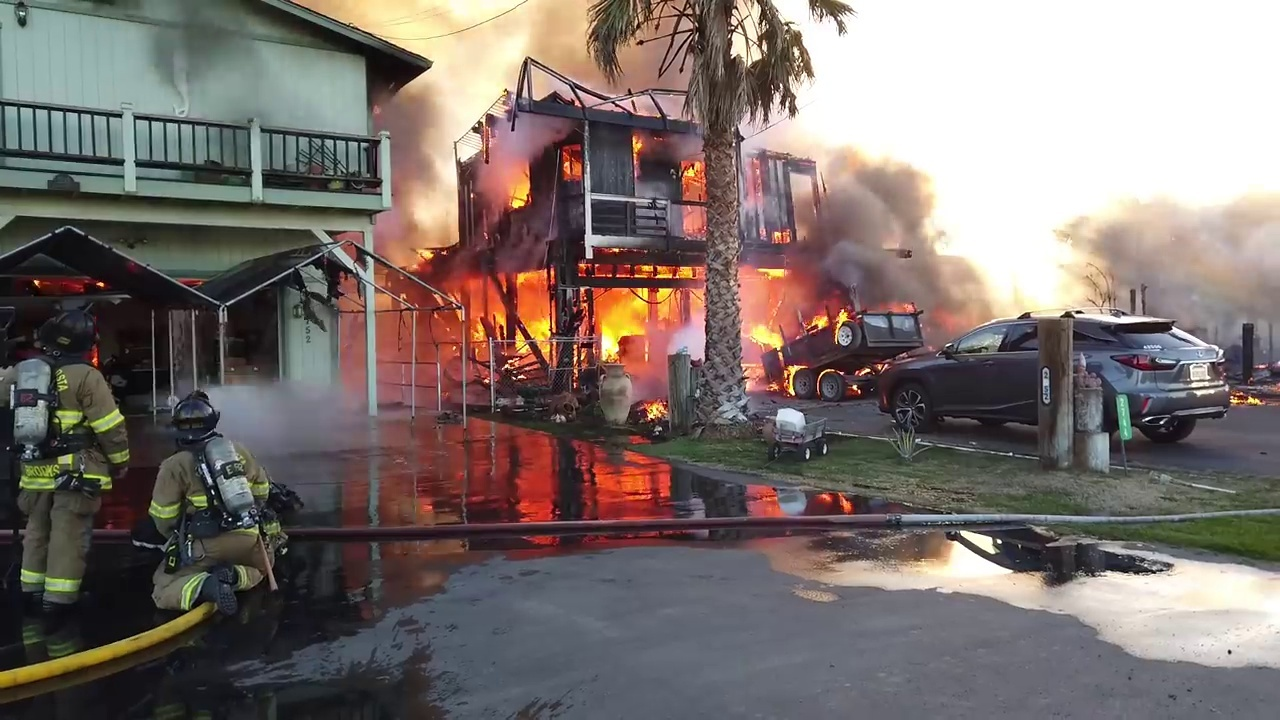fire: (343, 306, 462, 419), (733, 214, 807, 391), (958, 231, 1086, 316), (472, 275, 555, 341), (595, 290, 644, 360), (809, 366, 877, 404), (27, 275, 113, 303), (646, 133, 706, 158), (632, 391, 666, 433), (506, 162, 535, 211), (742, 156, 766, 206), (675, 155, 709, 185), (559, 146, 584, 180), (832, 304, 850, 339), (630, 134, 644, 174), (812, 306, 833, 331), (1230, 390, 1265, 404), (888, 297, 917, 311), (85, 345, 102, 365), (1252, 357, 1270, 374)
smoke: (1074, 66, 1279, 312), (779, 132, 990, 300), (406, 2, 694, 93), (376, 101, 506, 269), (214, 351, 361, 459), (732, 126, 780, 217), (505, 116, 571, 161), (660, 311, 704, 357)
